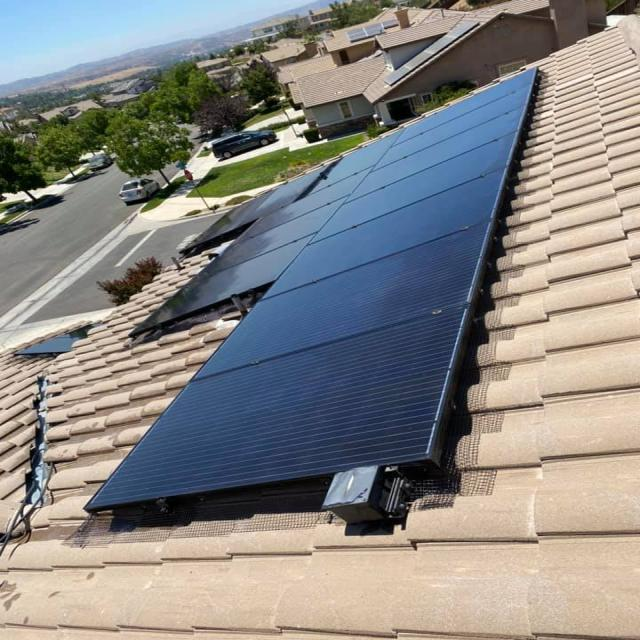clean-solar-panel: (87, 69, 537, 511)
